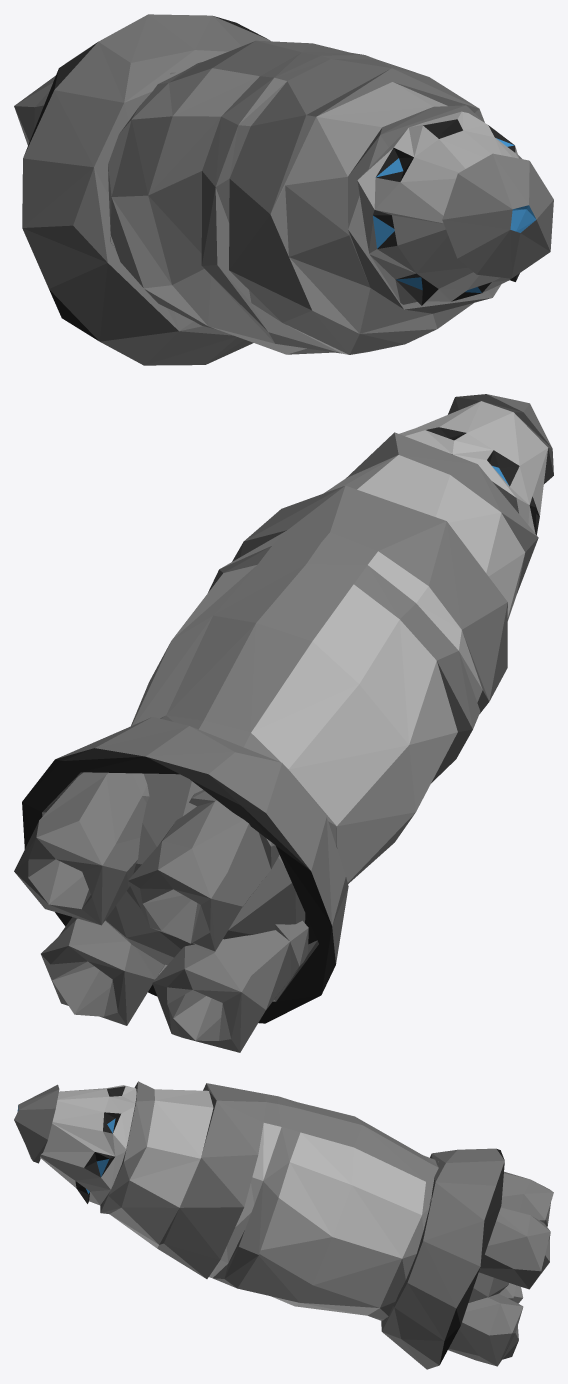
Rendered from cosmicCourier.glb.
3 renders of one model, top to bottom at view 1: azimuth 30°, elevation 25°; view 2: azimuth 150°, elevation 25°; view 3: azimuth 270°, elevation 25°, orthographic. The views are drawn at different scales.
Visible parts, largest first — view 1: cosmicCourier; view 2: cosmicCourier; view 3: cosmicCourier.
Part boxes in pixels (<box>): cosmicCourier: <box>14,14,553,365</box>; cosmicCourier: <box>14,394,553,1052</box>; cosmicCourier: <box>14,1081,553,1369</box>.
Bounding box in the file's own units: 8.41 × 10.84 × 19.56.
Materials: 1 (1 with a texture image).
